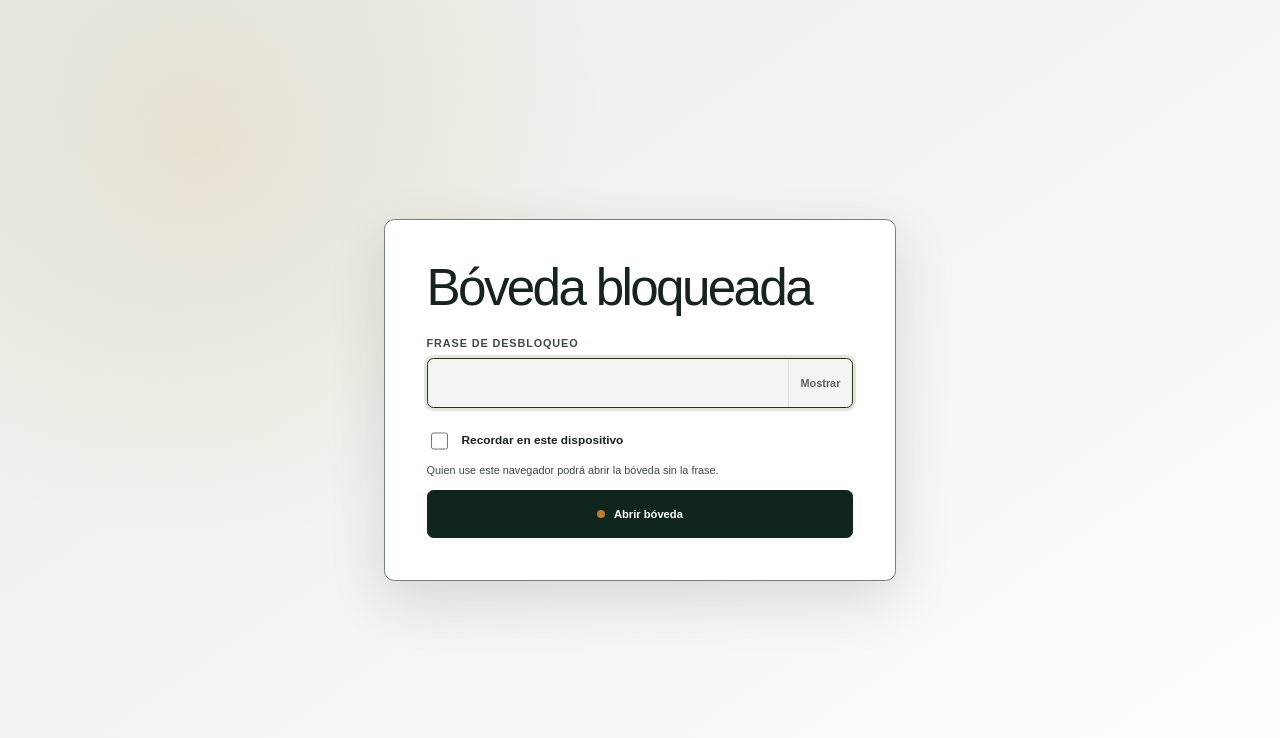
Scenario: App integration › applies a global search to statistics and transaction data
Type "correct horse battery staple" into the password field labelled "Frase de desbloqueo". click: (608, 383)
box: [428,359,788,407]
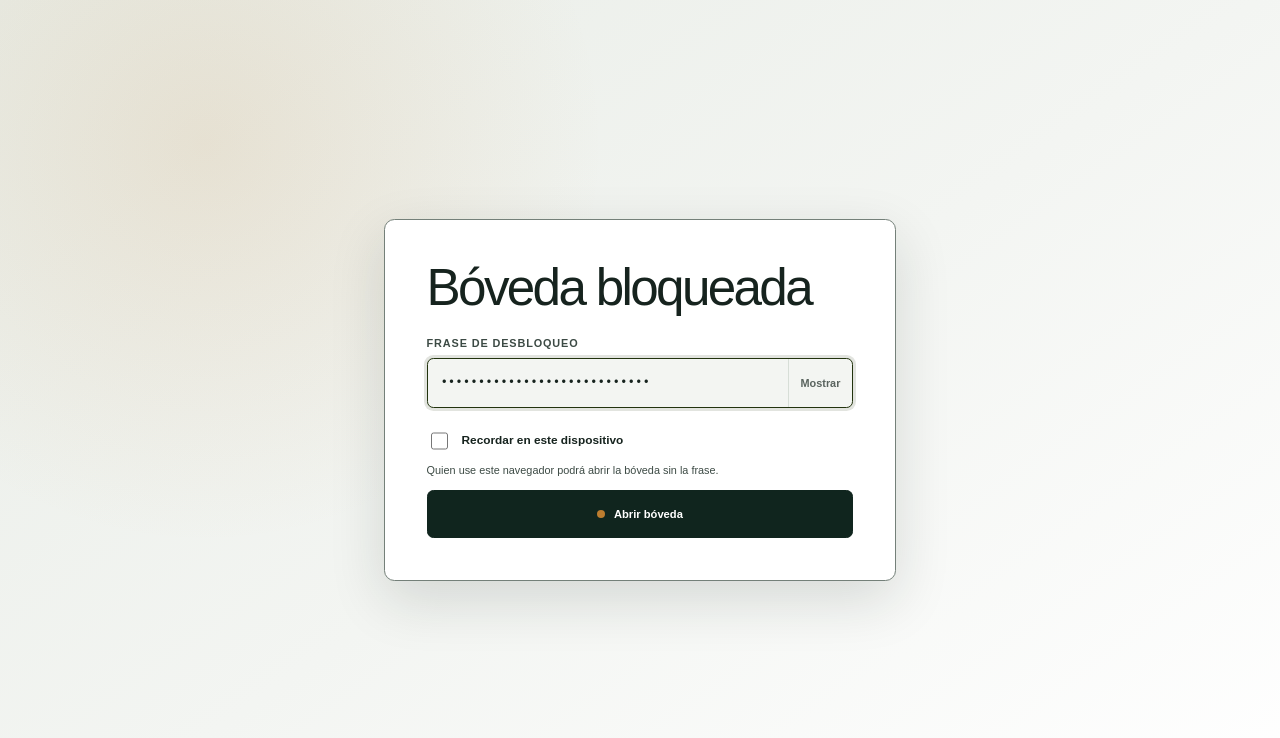
Click the button "Abrir bóveda". click: (640, 514)
box: [427,490,853,538]
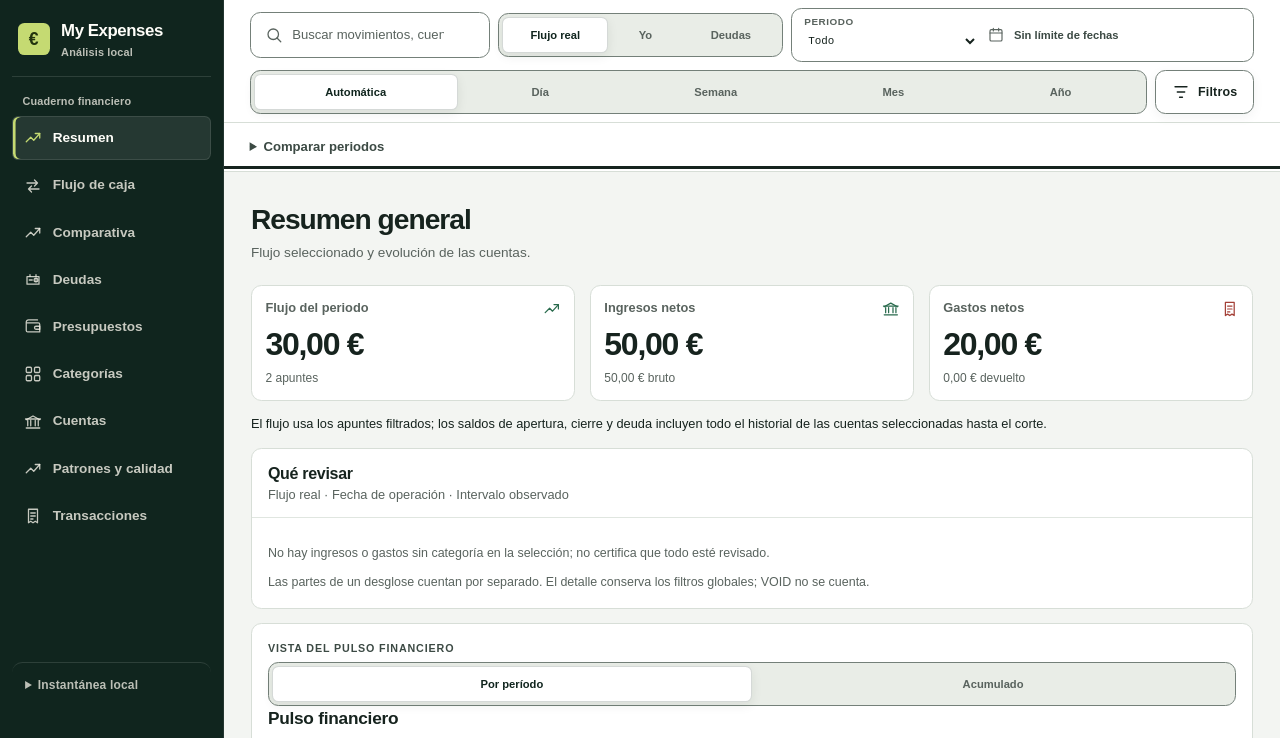
Expected: the heading "Resumen general" is shown, [251,204,471,235]
Type "tienda" into the search field named "buscar en todos". click: (370, 35)
box: [251,13,489,57]
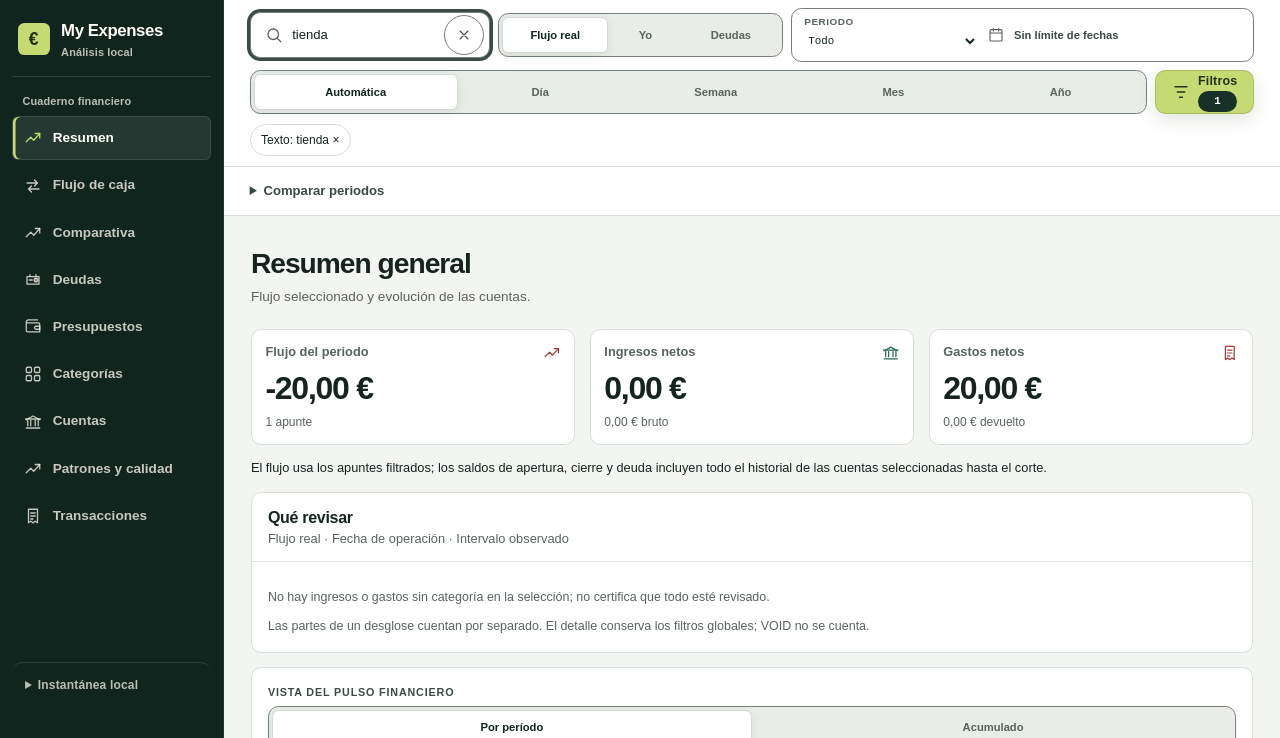
Expected: the text "-20,00 €" has attribute value="-20", [266,370,373,406]
Click the link "Transacciones". click: (86, 516)
box: [24,507,147,525]
(page scrolled)
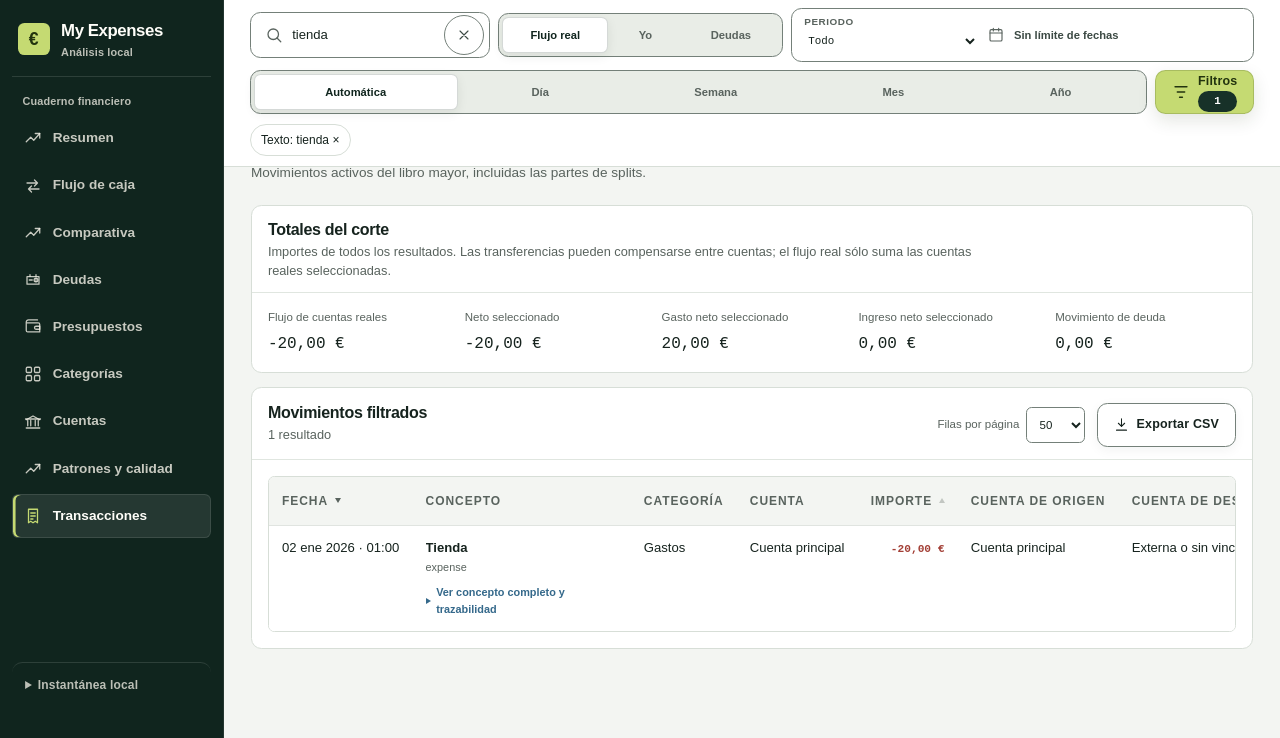
Expected: the heading "Transacciones" is shown, [251,124,434,155]
Expected: the text "Tienda" is shown, [426,540,468,555]
Expected: the text "1 resultado" is shown, [268,426,331,442]
